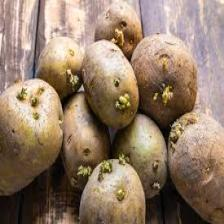Bud: (170, 120, 184, 152), (98, 158, 114, 184), (109, 28, 128, 46), (64, 66, 81, 86), (115, 94, 132, 113), (77, 164, 94, 182), (162, 83, 174, 108), (15, 86, 29, 104), (185, 113, 202, 126), (118, 154, 132, 167), (158, 54, 170, 68), (112, 73, 122, 88), (30, 93, 41, 106), (116, 189, 126, 203), (70, 176, 79, 191), (153, 178, 162, 192), (152, 158, 160, 171), (36, 85, 46, 95), (32, 110, 41, 121), (153, 90, 160, 103), (69, 48, 75, 57), (106, 11, 112, 19)
Sprouted potato: (1, 77, 66, 211), (132, 33, 204, 130), (168, 111, 224, 224), (82, 39, 141, 130), (78, 153, 148, 224), (117, 112, 169, 202), (36, 35, 86, 99), (96, 2, 144, 59)
